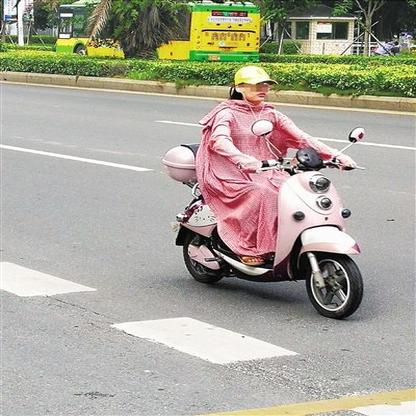target: (159, 66, 375, 320)
